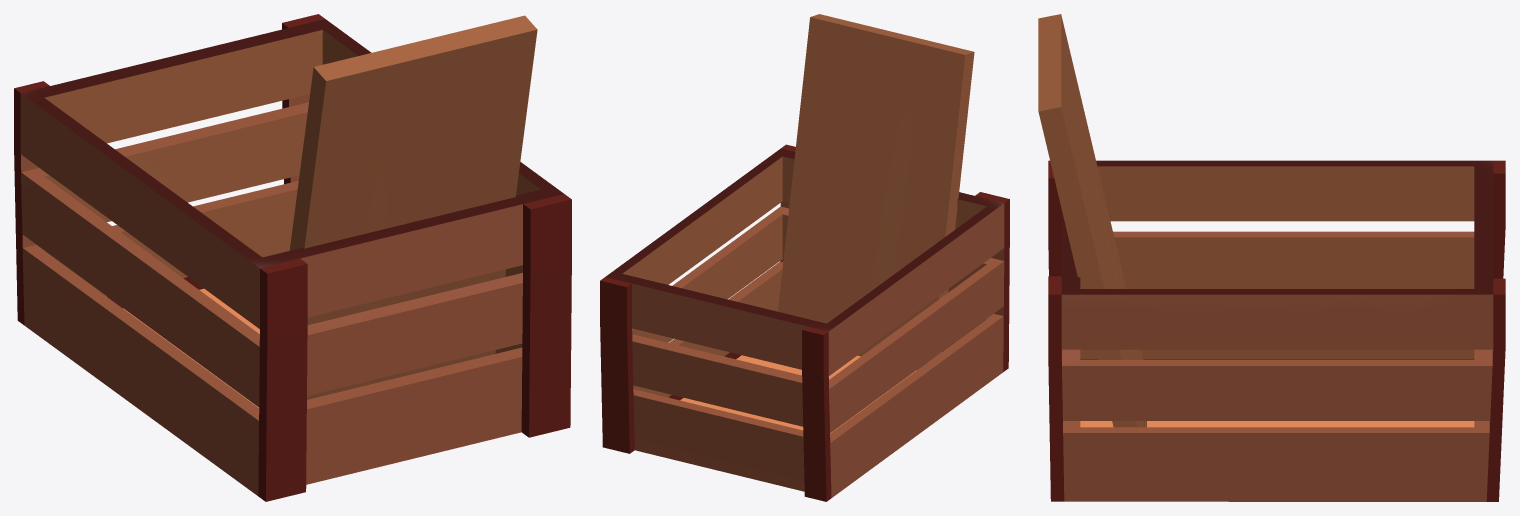
The model's file is caja.fbx.
The picture shows the model from 3 angles, left to right: view 1: azimuth 30°, elevation 25°; view 2: azimuth 150°, elevation 25°; view 3: azimuth 270°, elevation 25°; orthographic projection. The views are drawn at different scales.
Parts seen in each view (by area): view 1: Cube.001, Plane.001; view 2: Cube.001, Plane.001; view 3: Cube.001, Plane.001.
Boxes of the visible parts, x1,y1,x2,y2 form: Cube.001: [14, 14, 571, 501]; Plane.001: [289, 15, 537, 399]; Cube.001: [600, 144, 1009, 501]; Plane.001: [778, 14, 974, 369]; Cube.001: [1048, 160, 1505, 501]; Plane.001: [1038, 14, 1146, 427].
Bounding box in the file's own units: 127 × 166 × 187.
1 material, 1 textured.
